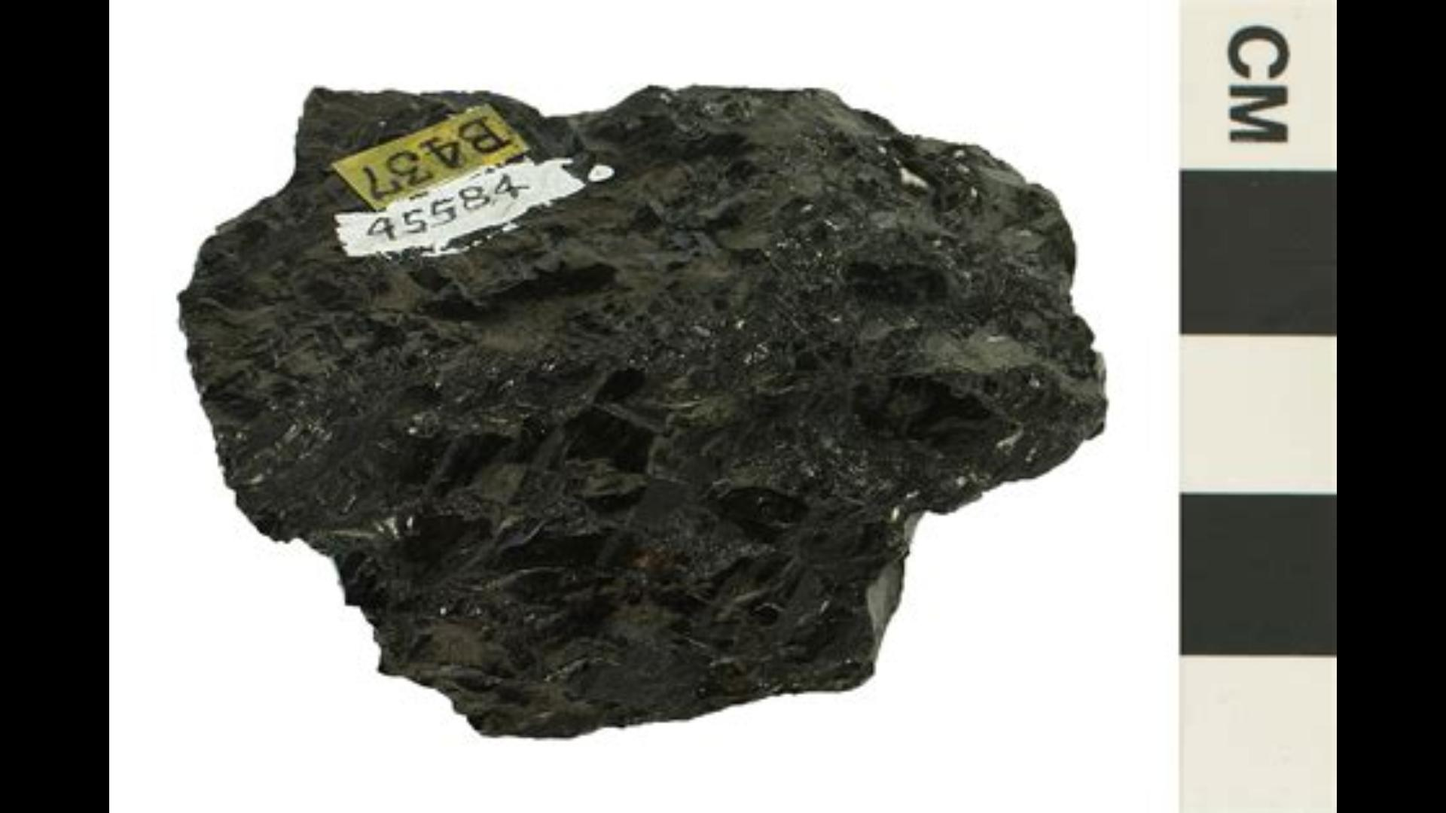rock: (182, 88, 1101, 735)
